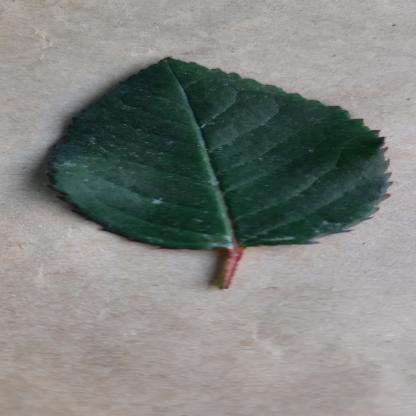normal: (38, 57, 404, 252)
